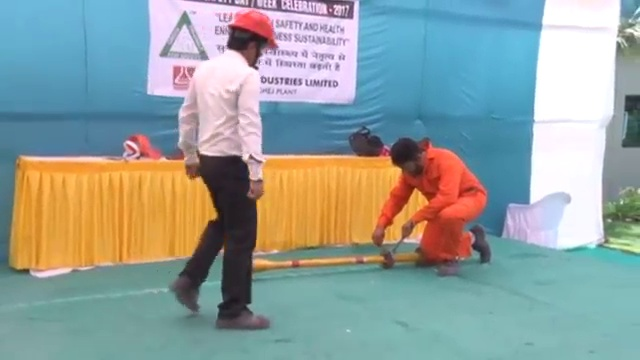helmet: (226, 8, 280, 48)
helmet_off: (392, 136, 428, 177)
helmet_on: (225, 7, 281, 66)
person: (174, 7, 276, 331), (373, 137, 494, 275)
